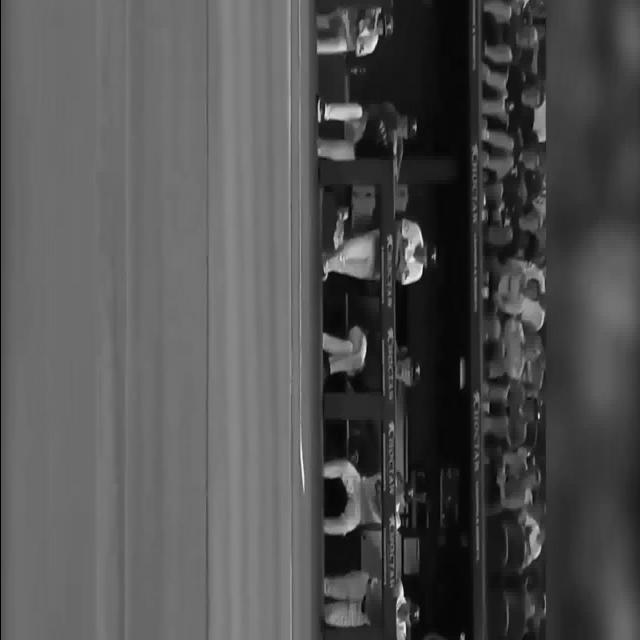shoe: (316, 95, 324, 123), (336, 205, 348, 221), (322, 359, 330, 382), (322, 262, 328, 282)
